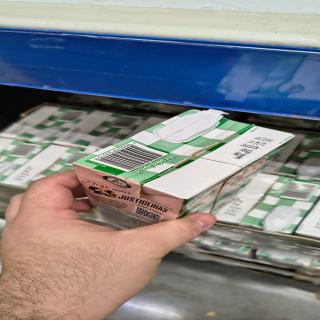Juice: (64, 86, 305, 206)
